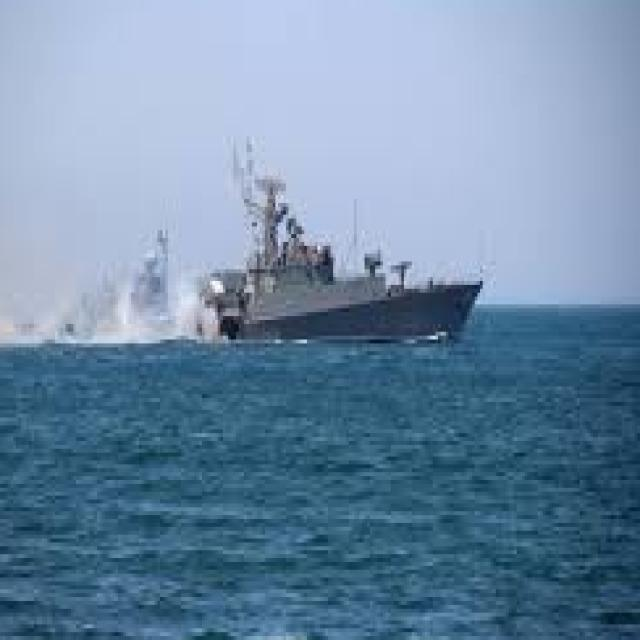navalvessels: (94, 145, 498, 357)
